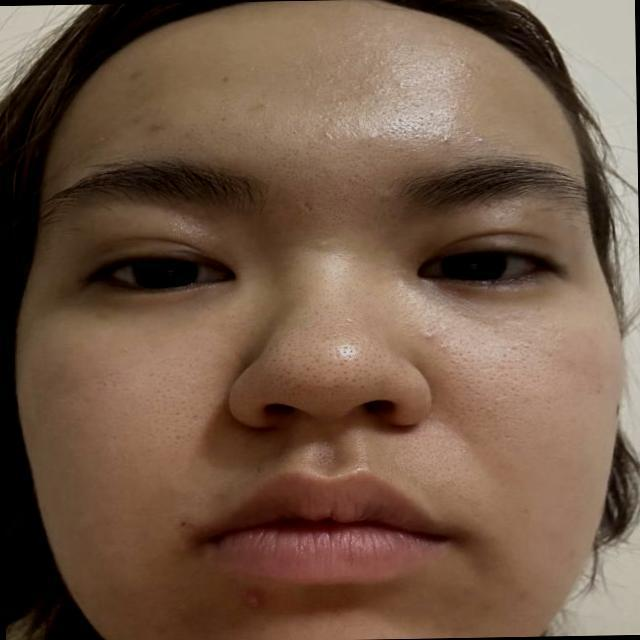acne: (440, 134, 461, 148), (471, 132, 489, 143), (436, 341, 455, 349)
blackhead: (302, 347, 367, 394), (300, 180, 370, 221), (371, 352, 408, 395), (261, 356, 295, 395), (252, 98, 271, 111)
nodules: (235, 590, 274, 616), (148, 119, 172, 133)
